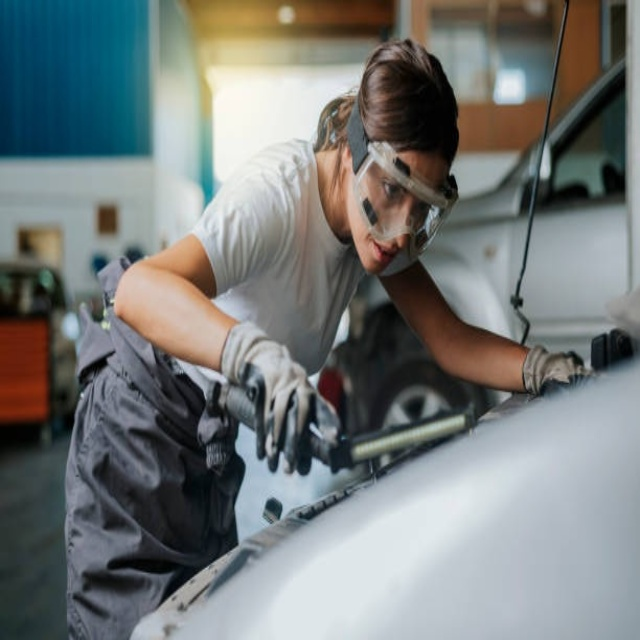Gafas: (346, 96, 456, 257)
Guantes: (219, 321, 324, 472), (521, 344, 591, 397)
Sin_mascara: (360, 234, 398, 267)
